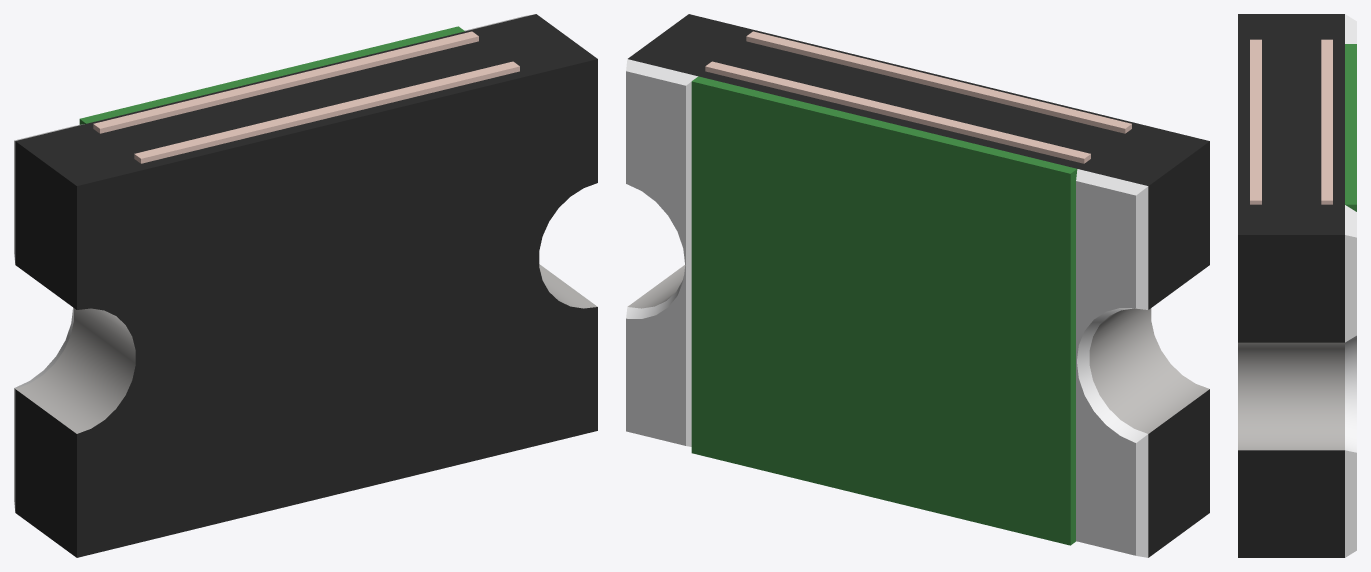
3 renders of one model, left to right at view 1: azimuth 30°, elevation 25°; view 2: azimuth 150°, elevation 25°; view 3: azimuth 270°, elevation 25°, orthographic. The views are drawn at different scales.
Parts seen in each view (by area): view 1: fuse_silicon_0805L v1; view 2: fuse_silicon_0805L v1; view 3: fuse_silicon_0805L v1.
Boxes of the visible parts, x1,y1,x2,y2 form: fuse_silicon_0805L v1: (14,14,597,557); fuse_silicon_0805L v1: (626,14,1209,557); fuse_silicon_0805L v1: (1238,14,1356,557).
Size of the model in its own units: 0.0022 by 0.00154 by 0.0005.
